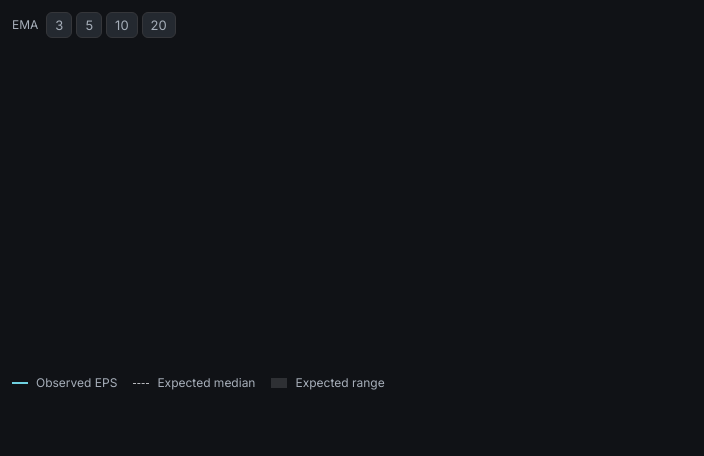
EMA legend, note and text › states the span from hourly buckets
Click the button named "EMA 3". click: (59, 25)
box: [46,12,72,38]
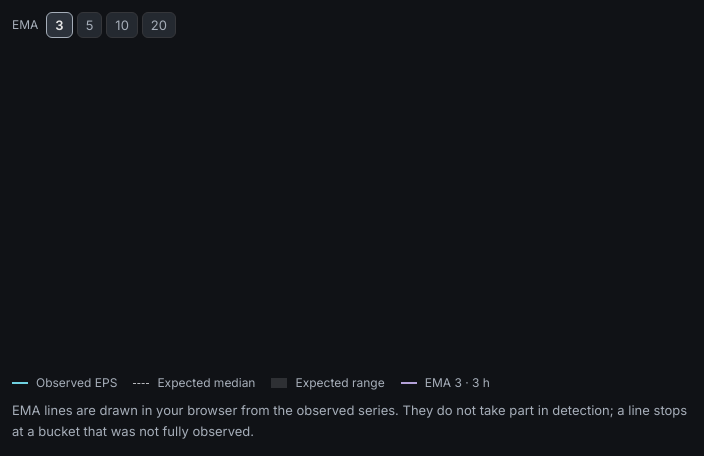
Expected: the list item "EMA 3 · 3 h" is shown, [401,374,490,392]
